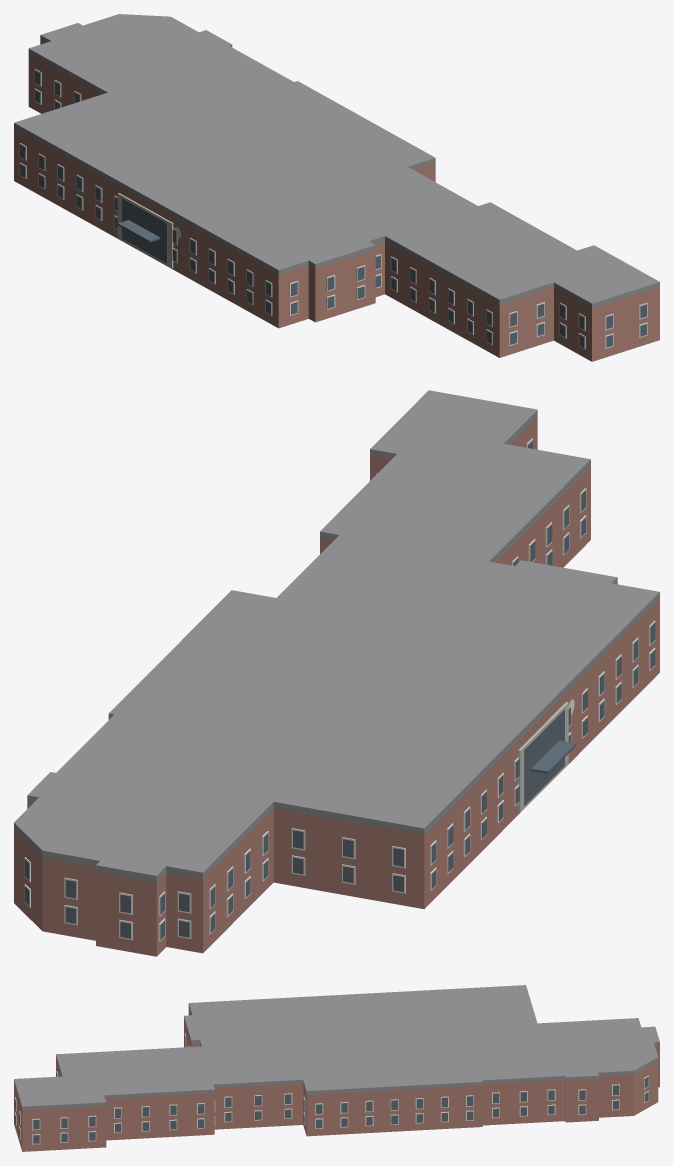
The model's file is whaling_museum_detail.glb.
The picture shows the model from 3 angles, top to bottom: view 1: azimuth 30°, elevation 25°; view 2: azimuth 150°, elevation 25°; view 3: azimuth 270°, elevation 25°; orthographic projection. The views are drawn at different scales.
Parts seen in each view (by area): view 1: roofcap, mass, wingglass, wingframe; view 2: roofcap, mass, wingglass, wingframe; view 3: roofcap, mass.
Part boxes in pixels (x1=…): roofcap: x1=14, y1=14, x2=659, y2=308; mass: x1=14, y1=40, x2=659, y2=361; wingglass: x1=122, y1=198, x2=167, y2=263; wingframe: x1=117, y1=193, x2=173, y2=267; roofcap: x1=14, y1=390, x2=659, y2=882; mass: x1=14, y1=416, x2=659, y2=956; wingglass: x1=524, y1=709, x2=564, y2=805; wingframe: x1=518, y1=702, x2=568, y2=812; roofcap: x1=14, y1=985, x2=659, y2=1110; mass: x1=14, y1=1007, x2=659, y2=1151.
Size of the model in its own units: 49.68 by 8.6 by 111.
